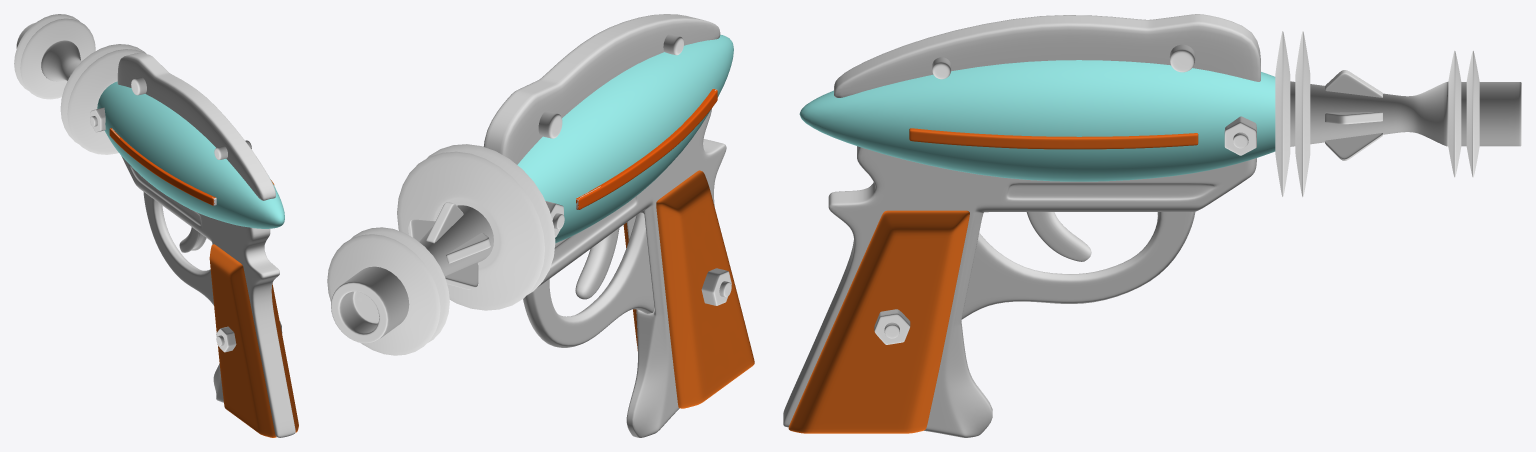
File: pistol.fbx
3 renders of one model, left to right at view 1: azimuth 30°, elevation 25°; view 2: azimuth 150°, elevation 25°; view 3: azimuth 270°, elevation 25°, orthographic. The views are drawn at different scales.
Visible parts, largest first — view 1: body, handle, grip, top_fin, Dish, Dish_2, trigger_guard, nozel, side_stripe_1, Dishes_2, Dishes_1, trigger (+1 smaller); view 2: body, grip, Dishes_2, handle, top_fin, Dishes_1, trigger_guard, mouth, Dish, nozel, side_stripe_1, Dish_2 (+6 smaller); view 3: body, grip, handle, top_fin, trigger_guard, nozel, side_stripe_2, mouth, Dish, Dishes_2, trigger, Dish_2 (+5 smaller).
Boxes of the visible parts, x1,y1,x2,y2 form: body: [97, 81, 284, 228]; handle: [121, 155, 295, 437]; grip: [209, 244, 298, 437]; top_fin: [117, 52, 275, 200]; Dish: [67, 49, 146, 154]; Dish_2: [20, 18, 95, 99]; trigger_guard: [143, 192, 213, 305]; nozel: [41, 40, 81, 81]; side_stripe_1: [109, 128, 216, 205]; Dishes_2: [60, 44, 145, 143]; Dishes_1: [14, 14, 79, 91]; trigger: [179, 227, 206, 252]; body: [517, 34, 733, 243]; grip: [623, 170, 754, 408]; Dishes_2: [397, 151, 544, 310]; handle: [537, 108, 726, 437]; top_fin: [483, 14, 720, 164]; Dishes_1: [327, 234, 440, 355]; trigger_guard: [523, 212, 654, 347]; mouth: [331, 266, 409, 343]; Dish: [427, 144, 555, 294]; nozel: [419, 205, 493, 276]; side_stripe_1: [576, 88, 717, 209]; Dish_2: [351, 227, 449, 342]; body: [799, 60, 1275, 181]; grip: [788, 210, 969, 433]; handle: [783, 146, 1256, 437]; top_fin: [834, 14, 1260, 97]; trigger_guard: [961, 212, 1195, 319]; nozel: [1290, 81, 1448, 146]; side_stripe_2: [909, 128, 1198, 149]; mouth: [1461, 82, 1521, 146]; Dish: [1275, 31, 1290, 196]; Dishes_2: [1295, 31, 1310, 196]; trigger: [1026, 212, 1091, 261]; Dish_2: [1448, 51, 1461, 177].
Size of the model in its own units: 5937 by 16343 by 26234.
